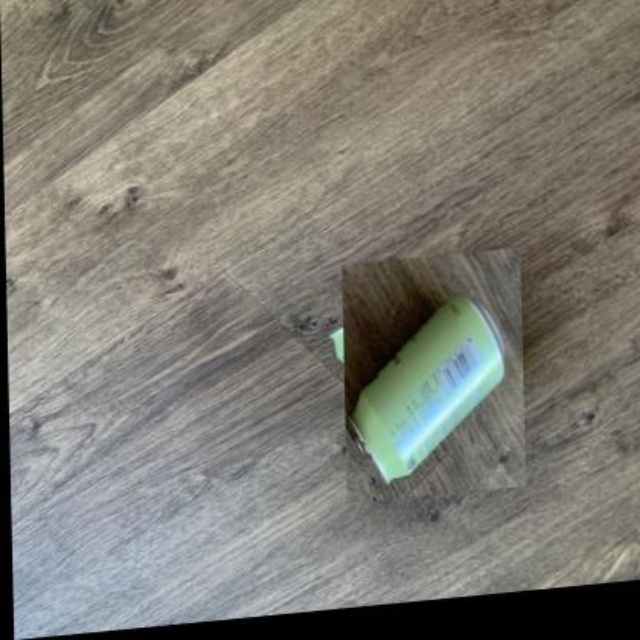trash: (352, 295, 503, 482)
